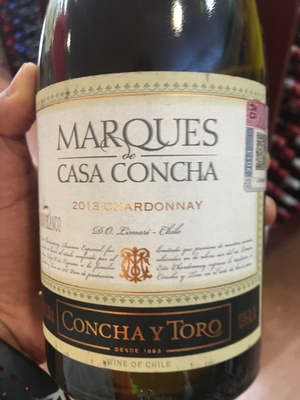marques de casa concha chardonnay: (33, 18, 269, 400)
